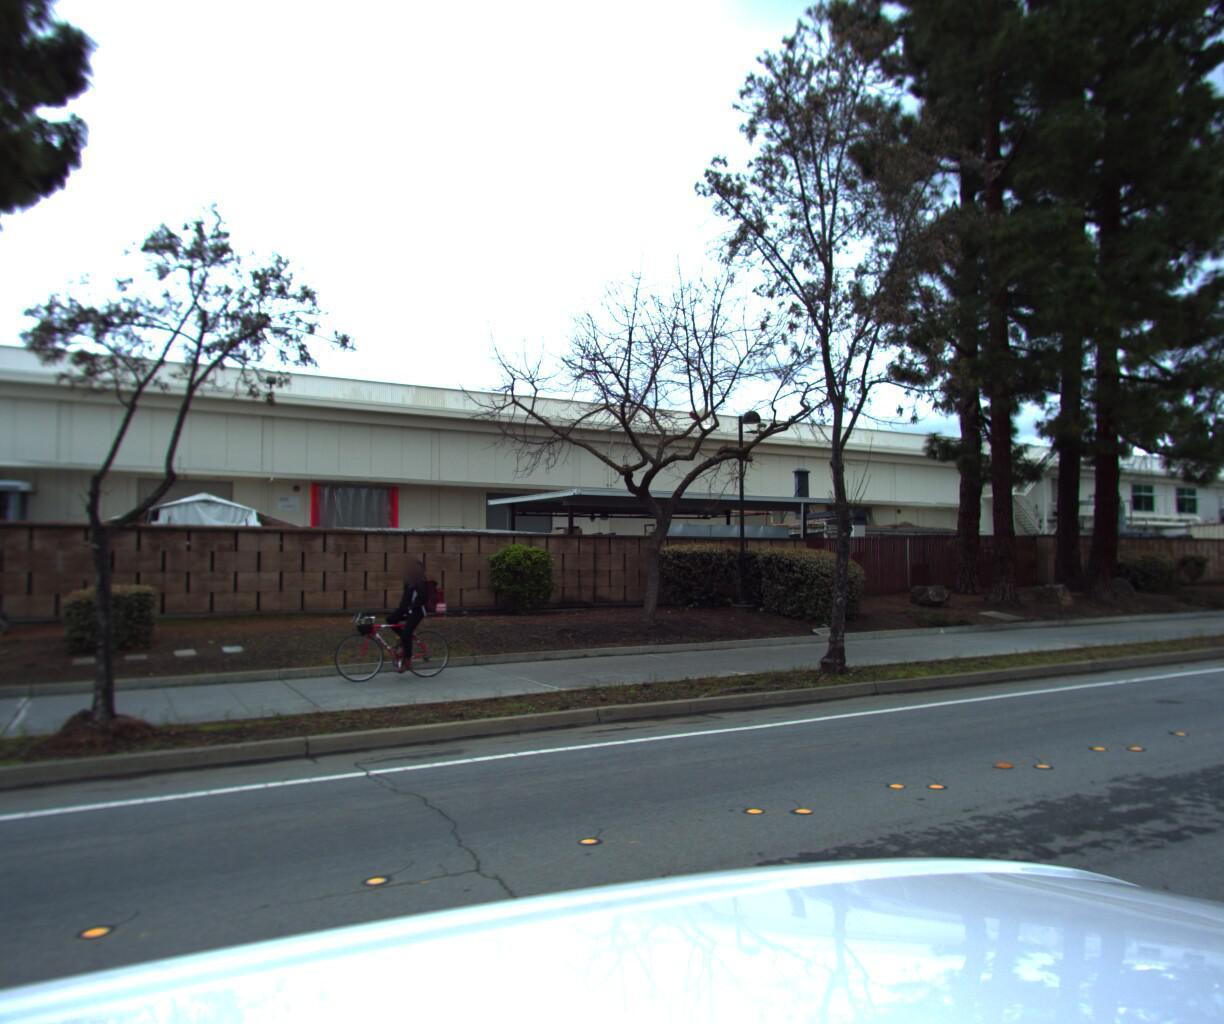bicycle: (318, 551, 452, 686)
